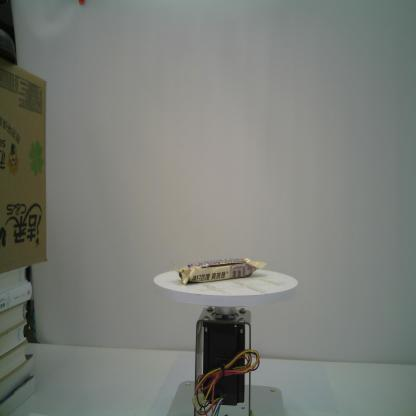Chocolate: (171, 257, 268, 286)
